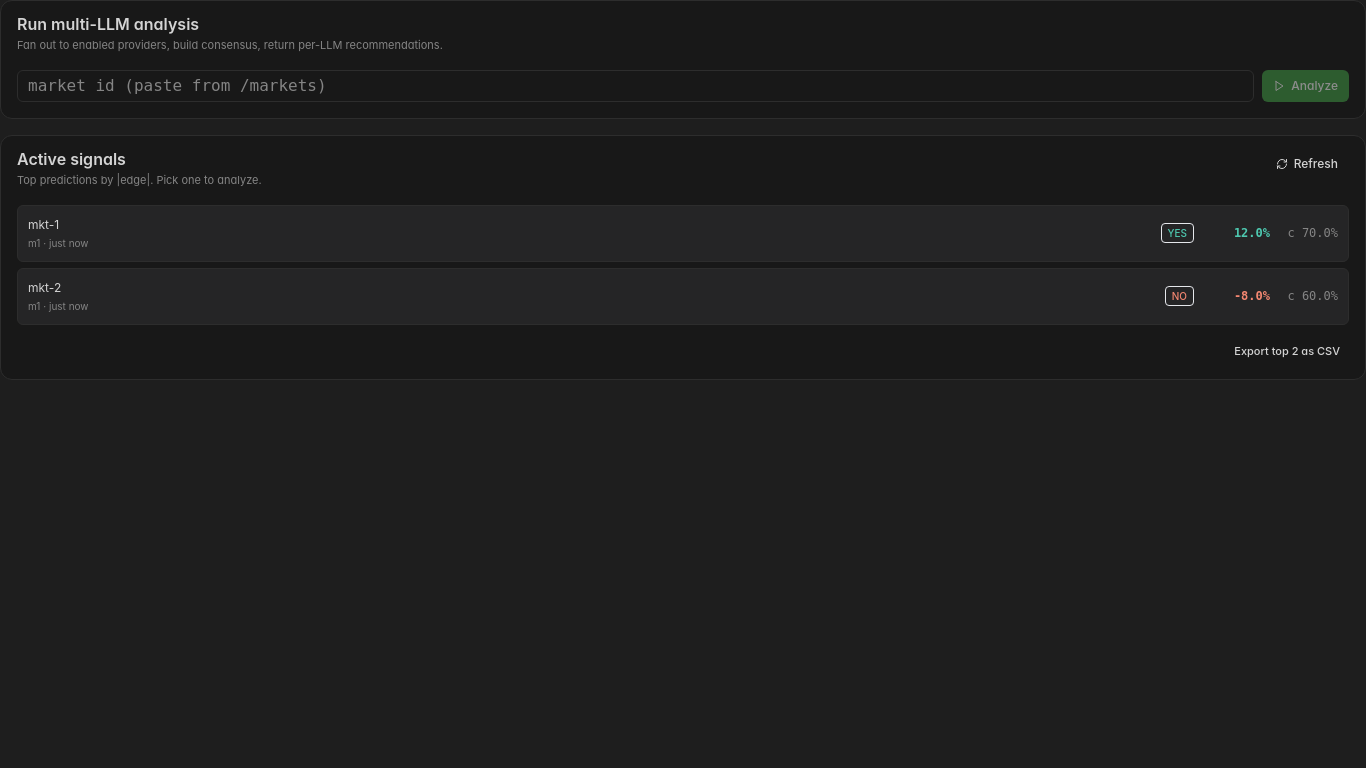
Test: Analysis (branches — v0.73b) › recommendation Modal renders all 6 fields + reasoning block
The image size is (1366, 768).
Step 1. Type "mkt-1" into the field with placeholder "market id (paste from /markets)" → (636, 86), box [17,70,1254,102]
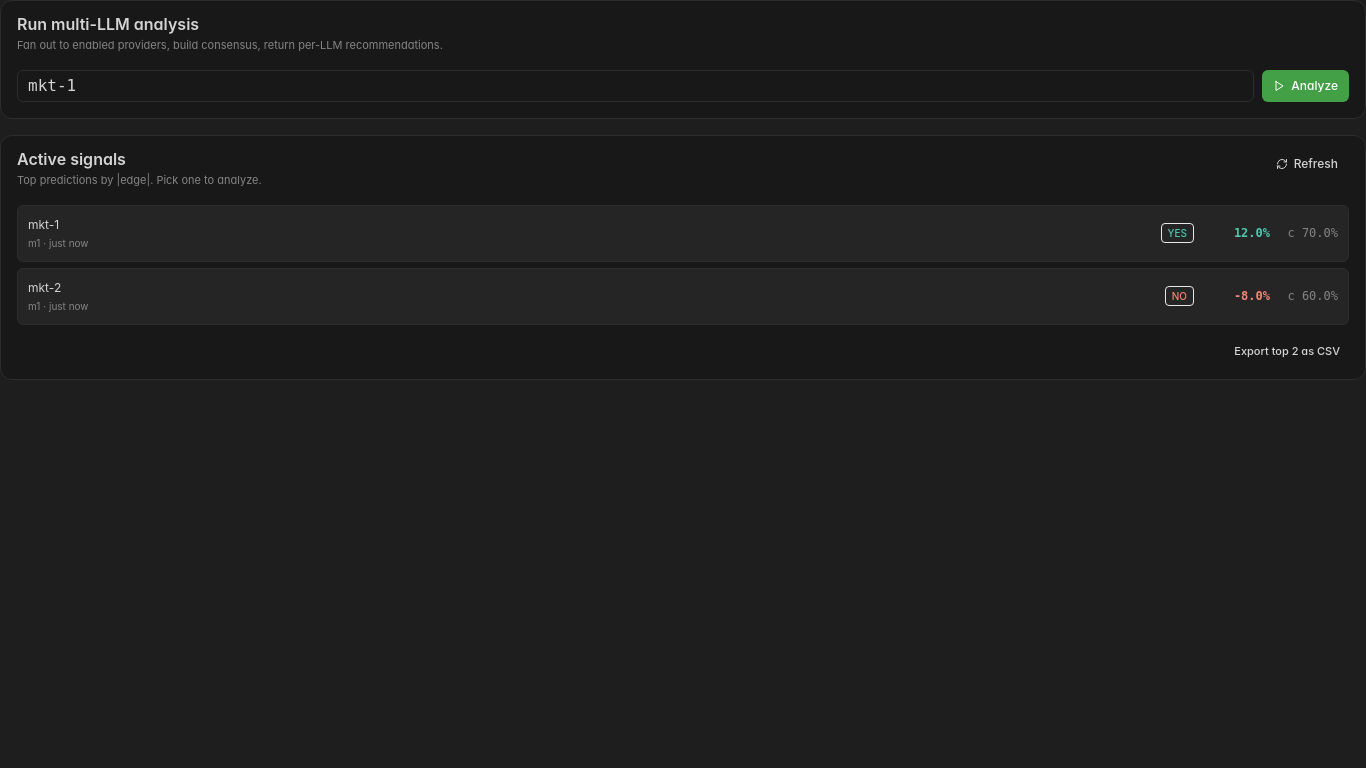
Step 2. Click the button "Analyze" → (1306, 86), box [1262,70,1349,102]
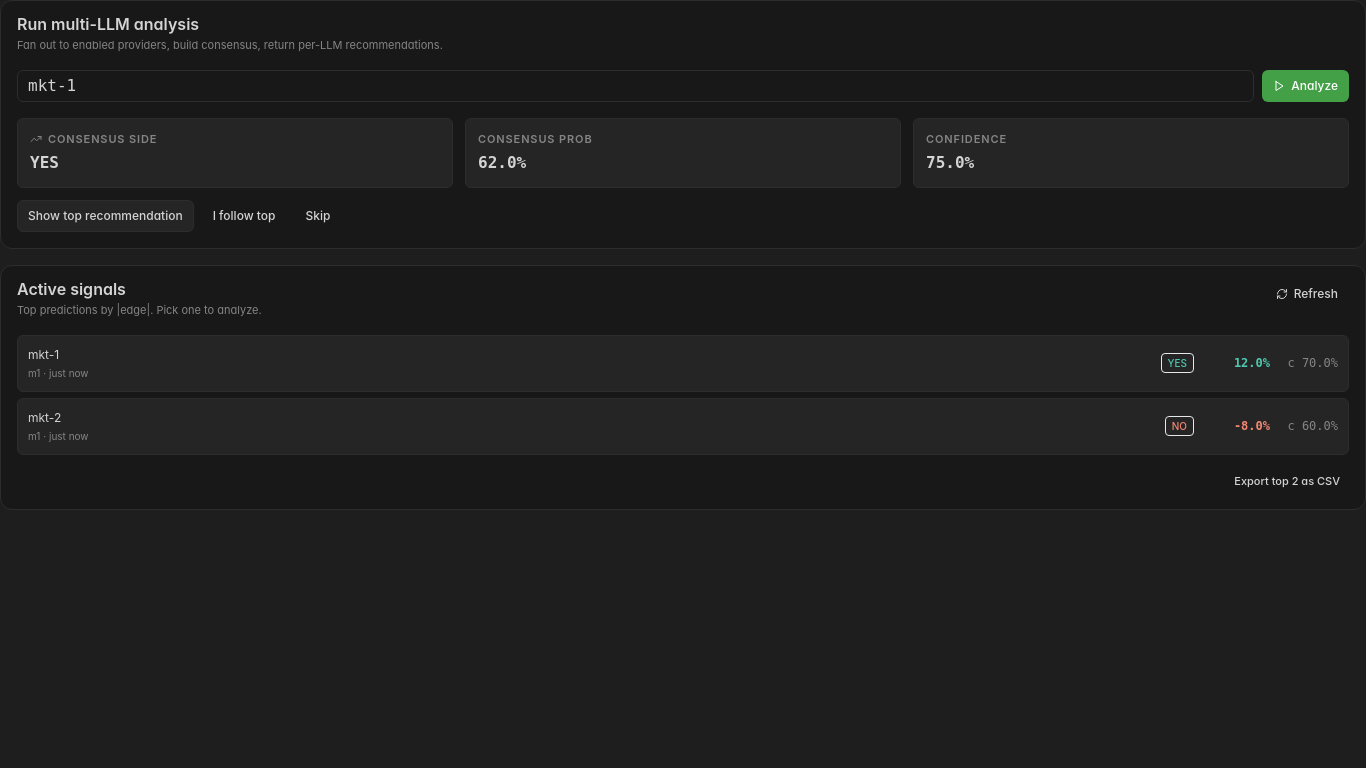
Check: the button "Show top recommendation" is shown
Step 3. Click the button "Show top recommendation" → (105, 216), box [17,200,194,232]
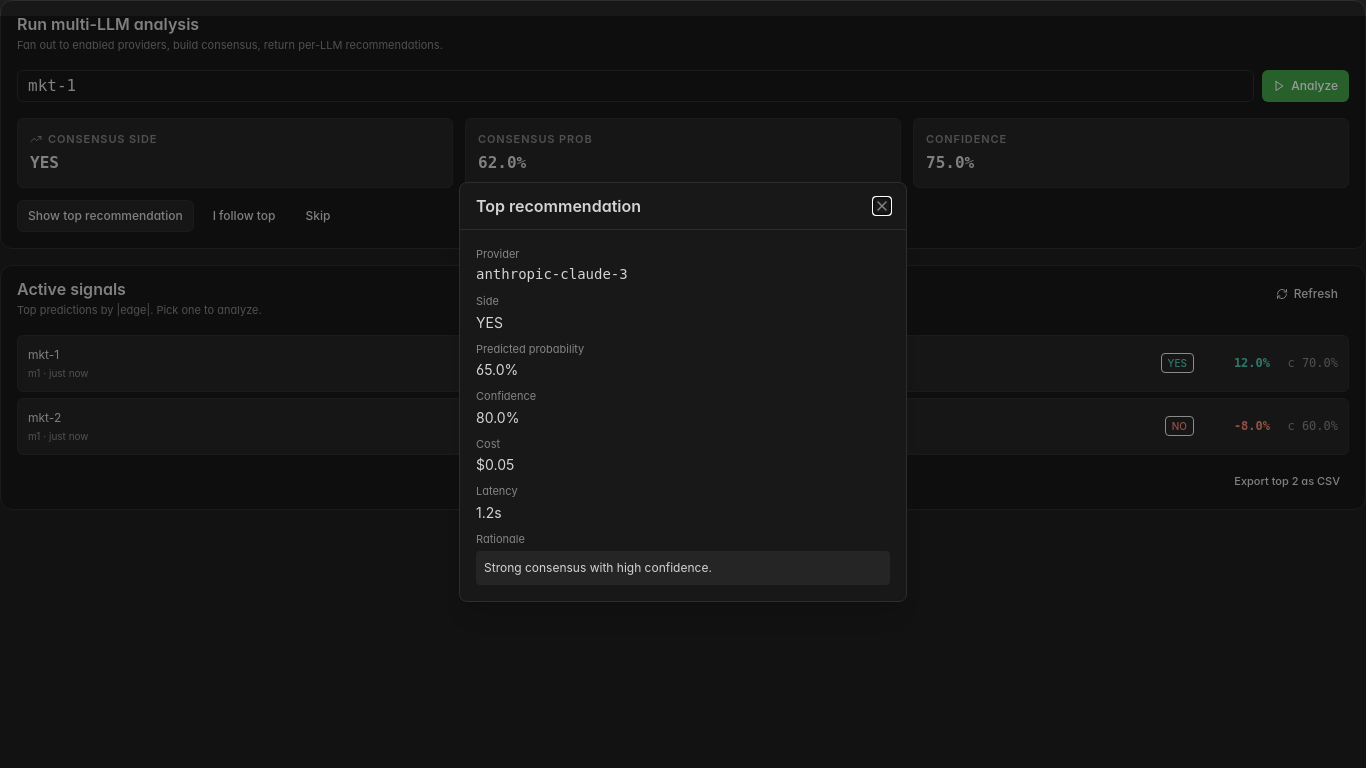
Check: the text "anthropic-claude-3" is shown, box [476,266,628,282]
Check: the text "Strong consensus with high confidence." is shown, box [476,551,890,585]
